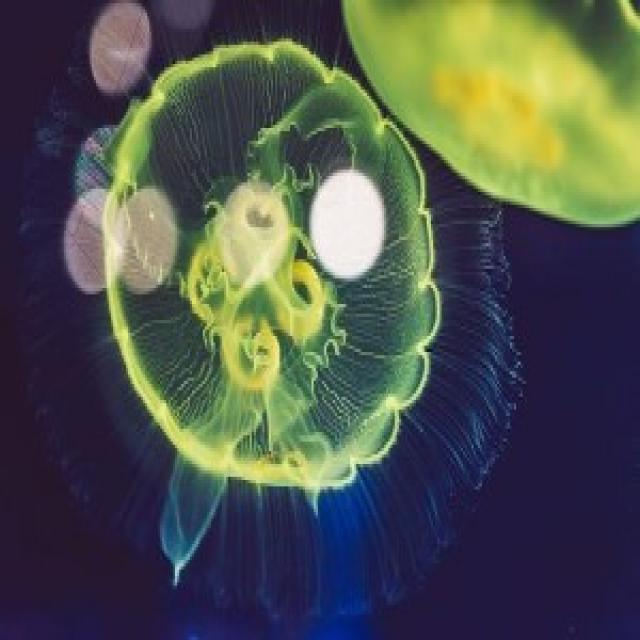Jellyfish: (81, 22, 411, 474), (335, 0, 640, 254)
